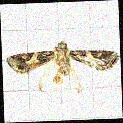Spodoptera litura: (5, 13, 121, 96)
